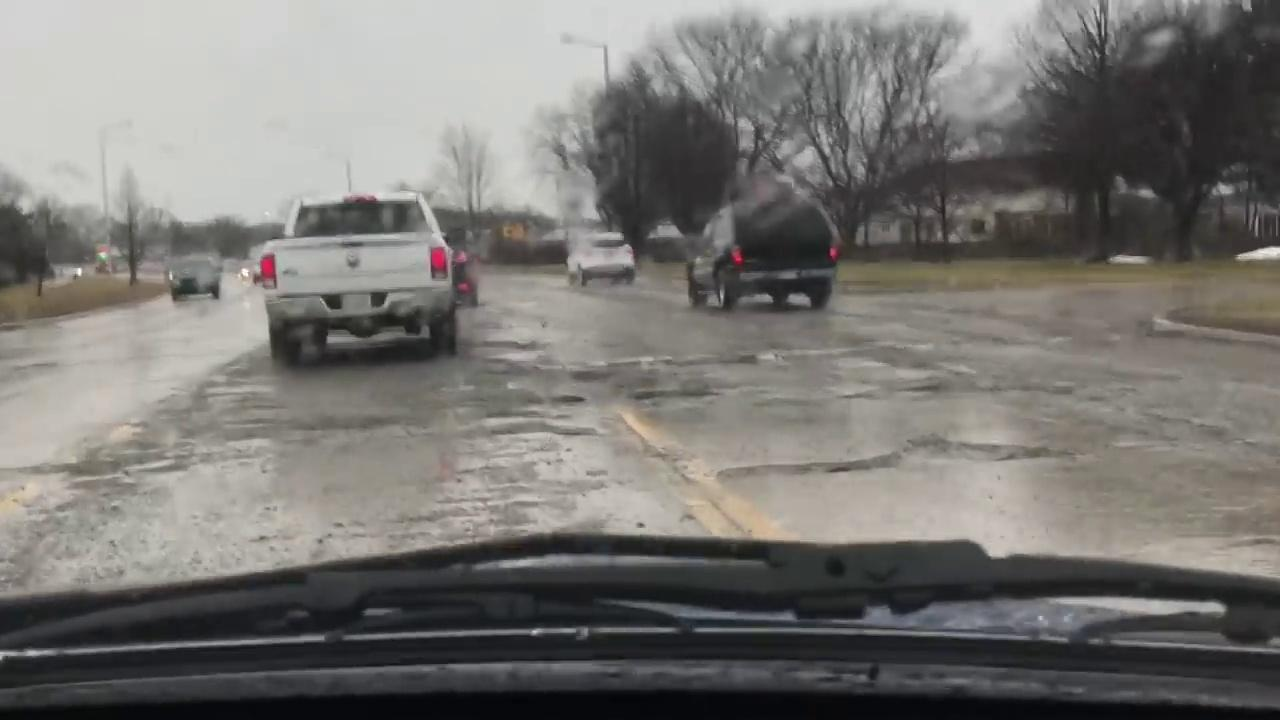pothole: (715, 428, 1074, 486)
